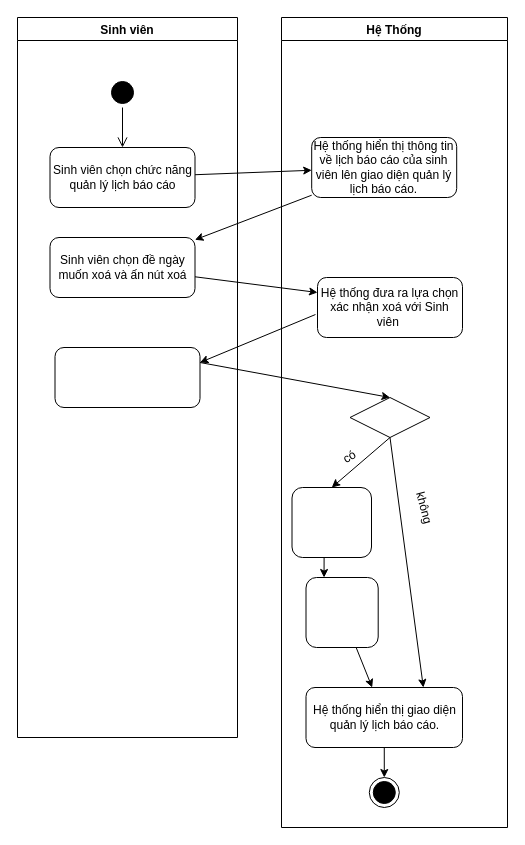
Some shapes in this 525 by 845 pixel diagram are drawn without their labels. Each missing label, with the centre of its shape:
Hệ thống gửi thông báo xoá thành công.: (x=341, y=612)
Hệ thống xoá ngày được chọn khỏi lịch báo cáo trong cơ sở dữ liệu.: (x=331, y=522)
Sinh viên xác nhận xoá.: (x=127, y=377)
Xác nhận: (x=389, y=417)
